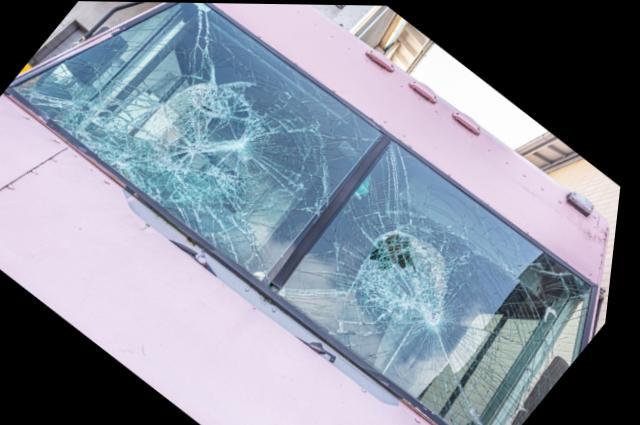glass shatter: (11, 2, 384, 282), (283, 138, 599, 425)
